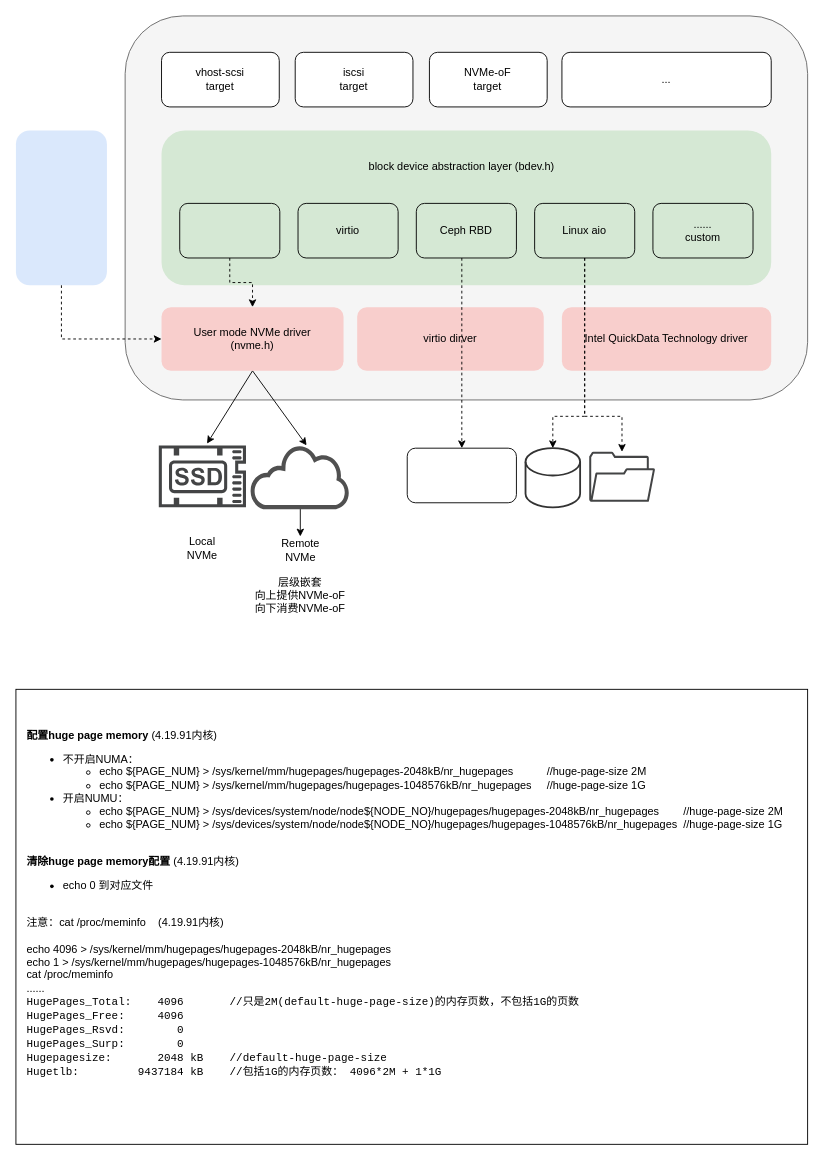
The diagram is 824 pixels wide and 1160 high, and some of its shapes have lost their labels. The shapes that lost their labels are listed below. From the top down, each one's centre as x and y in pixels, then its label:
At point (60, 207): "Application (Ceph bluestore)".
At point (229, 230): "nvme".
At point (300, 477): "NVMe-oF initiator".
At point (461, 475): "Ceph Cluster".
At point (552, 477): "block".
At point (622, 476): "file".
